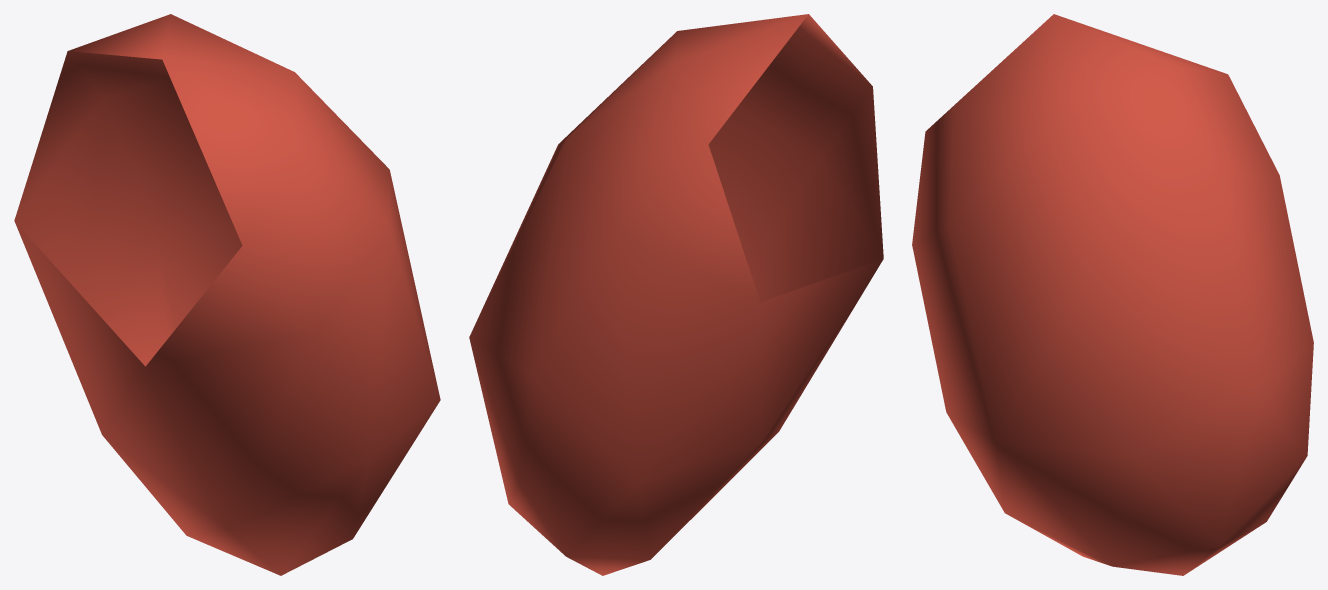
File: waddledee_mano_izq.obj
The picture shows the model from 3 angles, left to right: view 1: azimuth 30°, elevation 25°; view 2: azimuth 150°, elevation 25°; view 3: azimuth 270°, elevation 25°; orthographic projection. The views are drawn at different scales.
Bounding box in the file's own units: 0.2662 × 0.451 × 0.3279.
